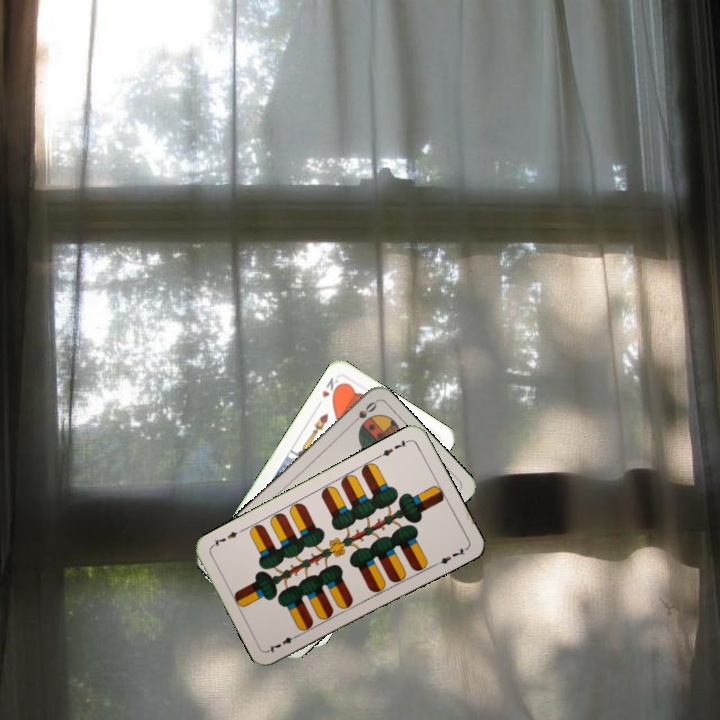E7: (264, 630, 302, 655), (374, 436, 412, 460)
HK: (318, 373, 345, 401)
SO: (345, 398, 380, 429)
